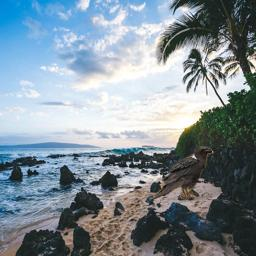Crow: (150, 146, 214, 202)
